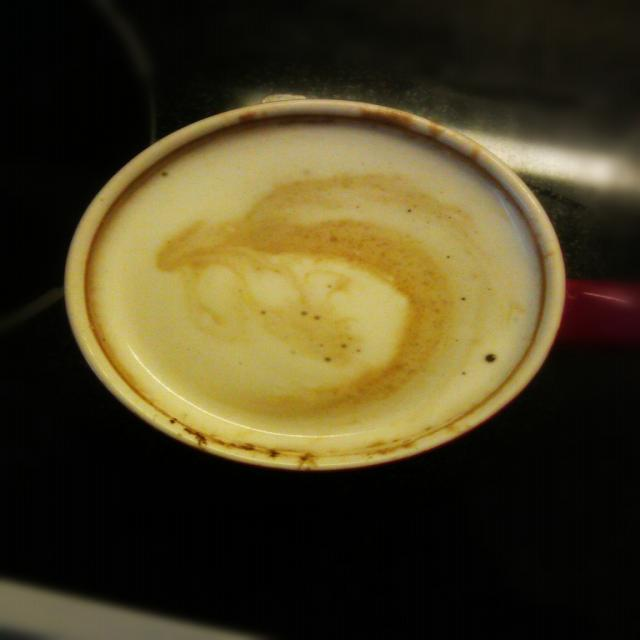Coffee: (84, 115, 548, 452)
